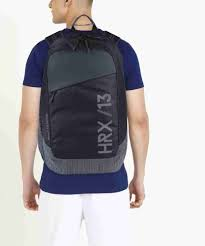backpack: (36, 14, 128, 175)
